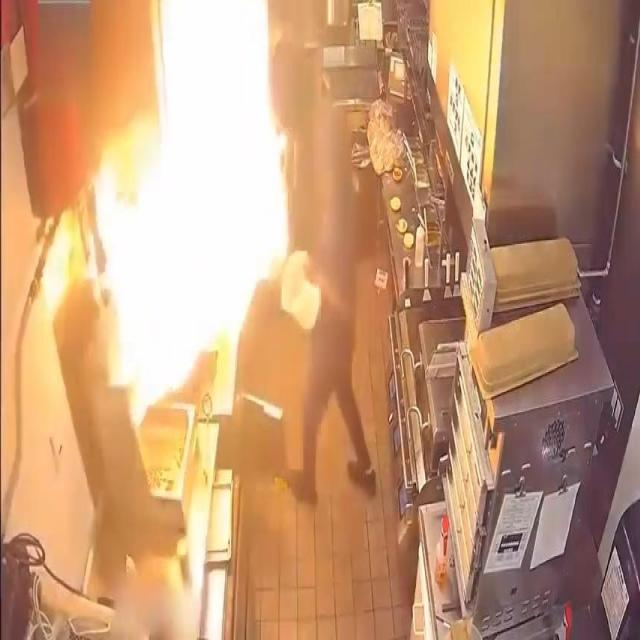fire: (12, 0, 301, 412)
